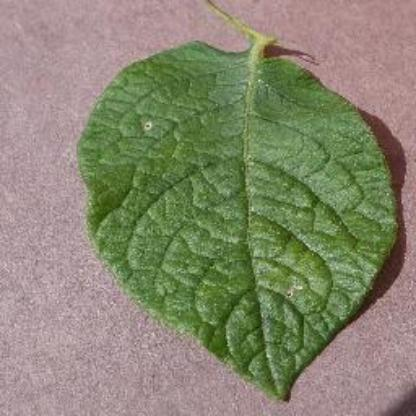Healthy-plant: (72, 16, 398, 398)
